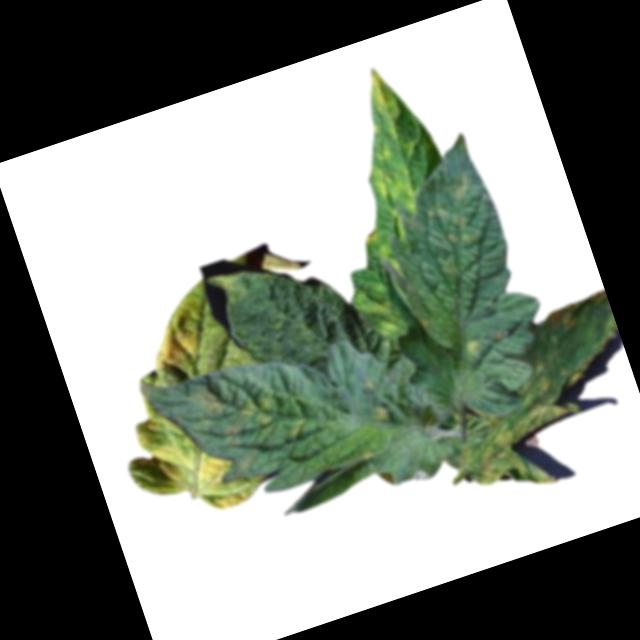Leaf_Mold: (433, 365, 616, 512), (106, 373, 256, 536), (137, 294, 225, 390), (235, 377, 318, 454), (361, 140, 422, 221), (360, 60, 410, 123), (369, 398, 395, 428), (464, 335, 485, 359)
